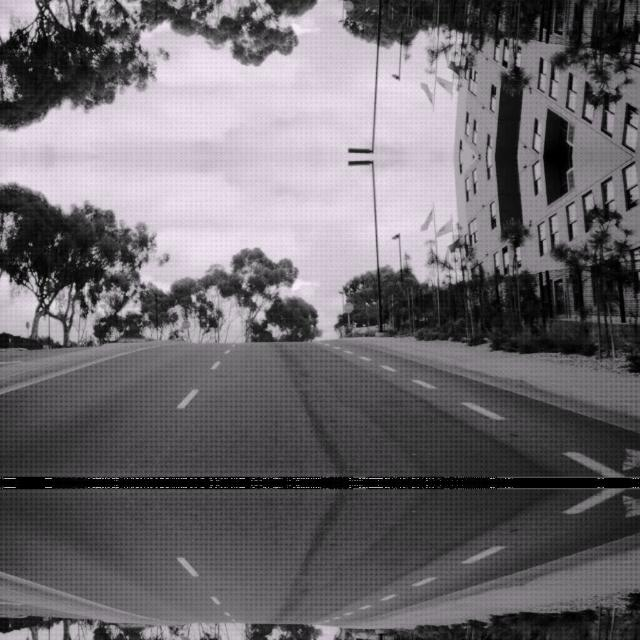stop: (342, 300, 352, 312), (342, 0, 352, 12), (180, 318, 190, 328), (180, 636, 190, 639)
